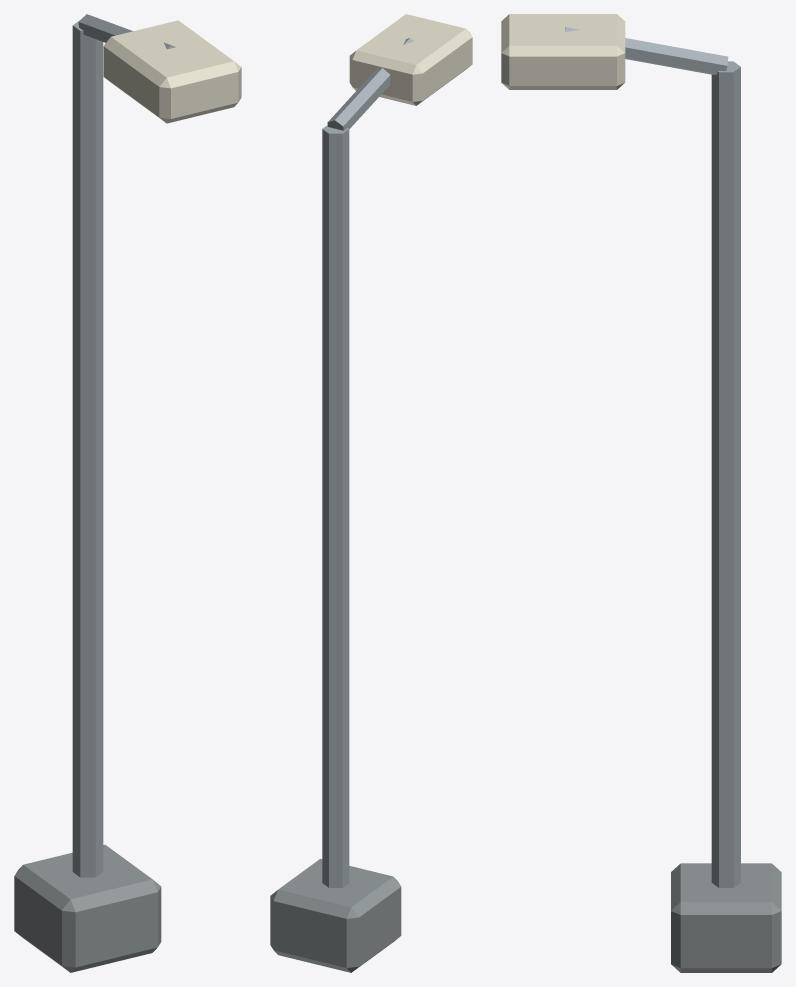
The model's file is SM_ENV_Structure_05_StreetLamp.glb.
The picture shows the model from 3 angles, left to right: view 1: azimuth 30°, elevation 25°; view 2: azimuth 150°, elevation 25°; view 3: azimuth 270°, elevation 25°; orthographic projection. The views are drawn at different scales.
Visible parts, largest first — view 1: SM_ENV_Structure_05_StreetLamp; view 2: SM_ENV_Structure_05_StreetLamp; view 3: SM_ENV_Structure_05_StreetLamp.
Part boxes in pixels (box(x1,y1,x2,y2)): SM_ENV_Structure_05_StreetLamp: box(14, 14, 241, 972); SM_ENV_Structure_05_StreetLamp: box(270, 14, 472, 972); SM_ENV_Structure_05_StreetLamp: box(501, 14, 781, 972).
Bounding box in the file's own units: 0.34 × 3.13 × 0.86.
